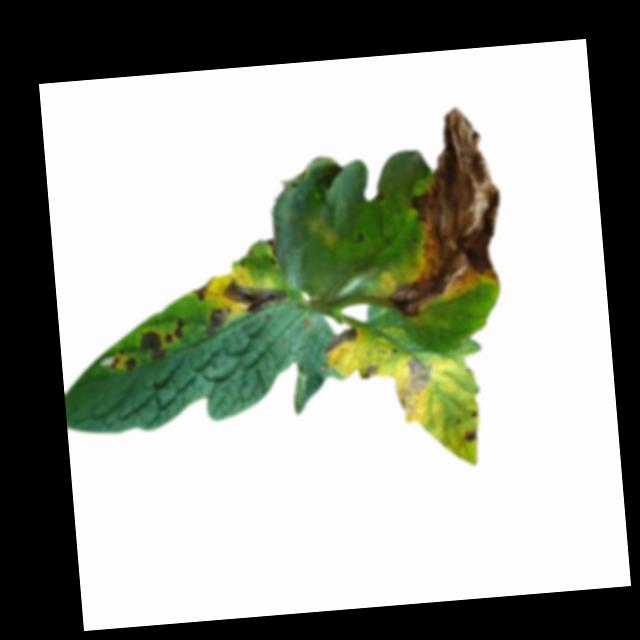Early_blight: (375, 103, 509, 315), (221, 275, 288, 315), (396, 355, 435, 412), (322, 324, 360, 355), (200, 304, 232, 335), (138, 329, 165, 360), (190, 274, 215, 303), (108, 350, 137, 374), (356, 358, 383, 380), (164, 317, 184, 343), (462, 424, 478, 442)
